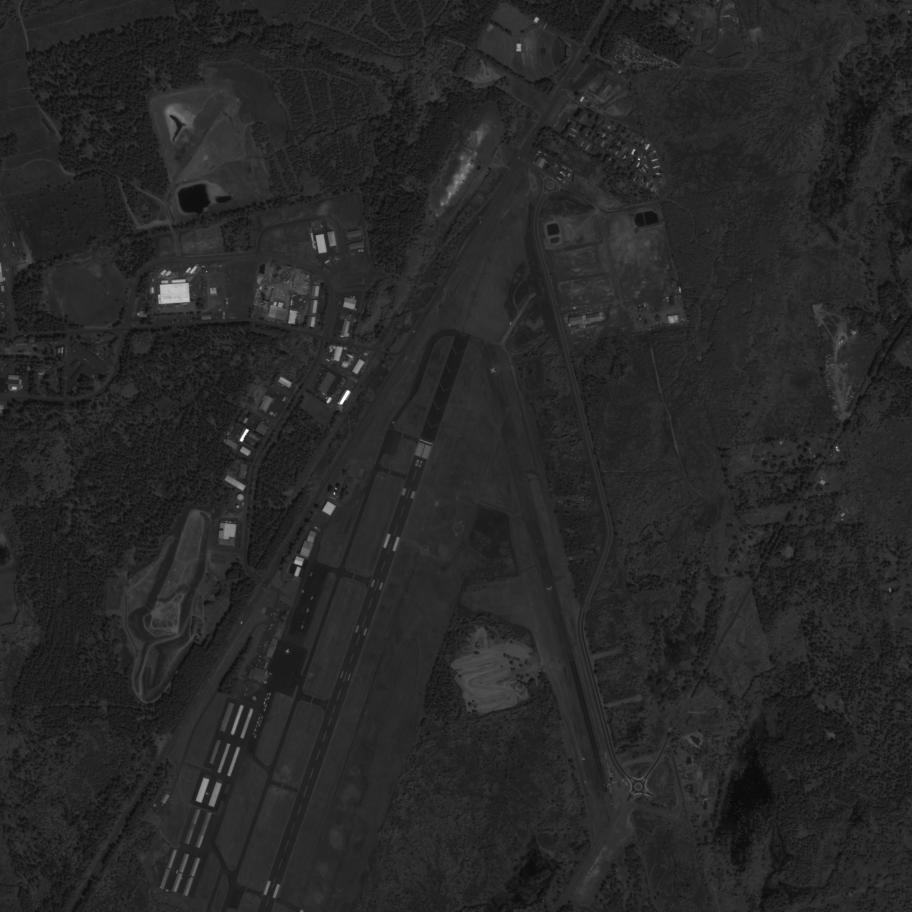storage-tank: (237, 494, 244, 501)
